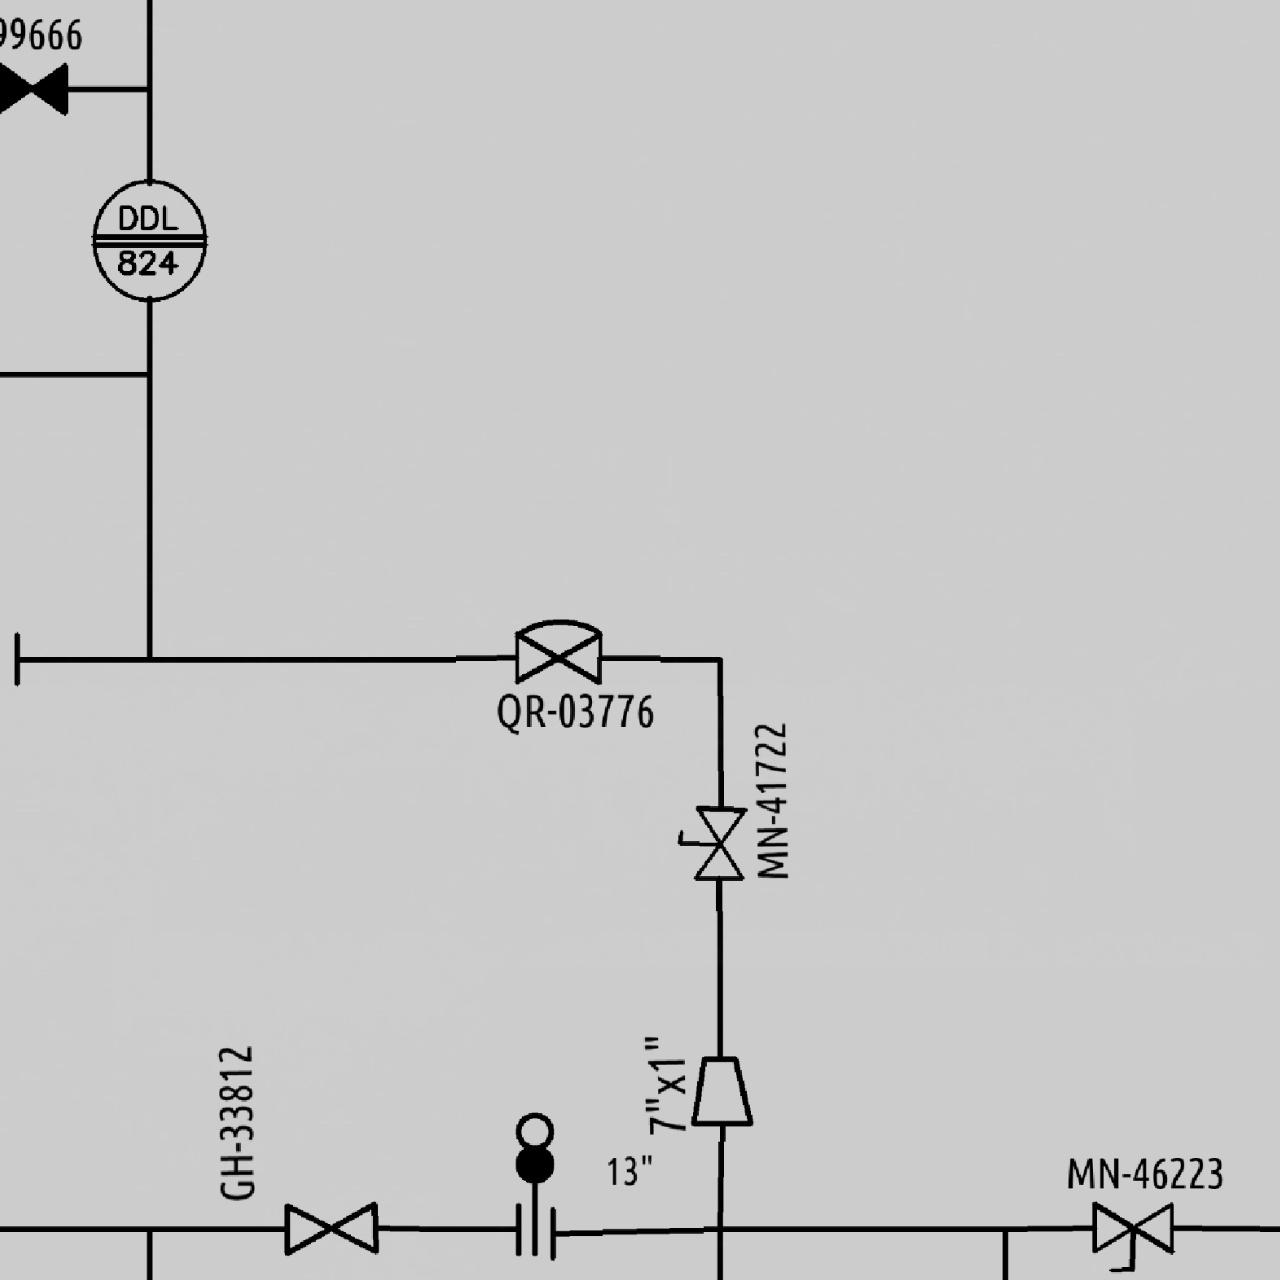Control-Panel: (82, 173, 215, 305)
